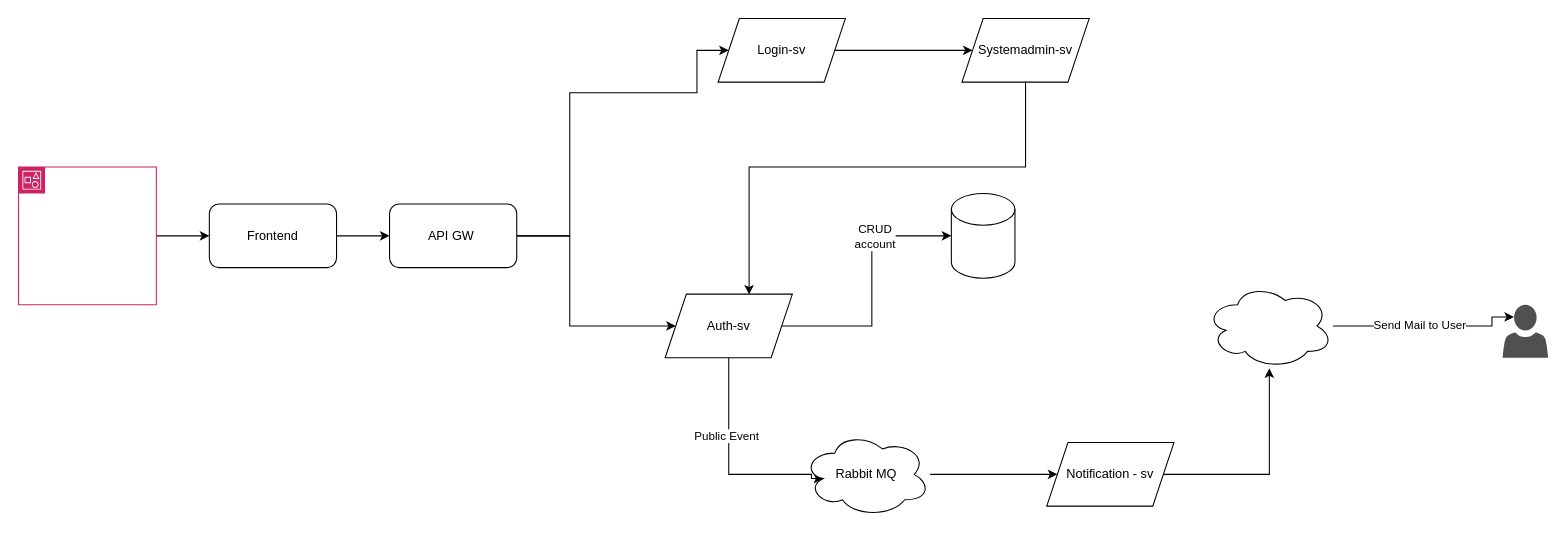
Some shapes in this 1567 by 535 pixel diagram are drawn without their labels. The shapes that lost their labels are listed below. From the top down, each one's box as (x1, y1, x2, y2) in pixels, then its label:
(17, 166, 156, 305): Create Onwer Acount
(950, 192, 1015, 278): DB
(1205, 282, 1333, 368): SMTP Gmail
